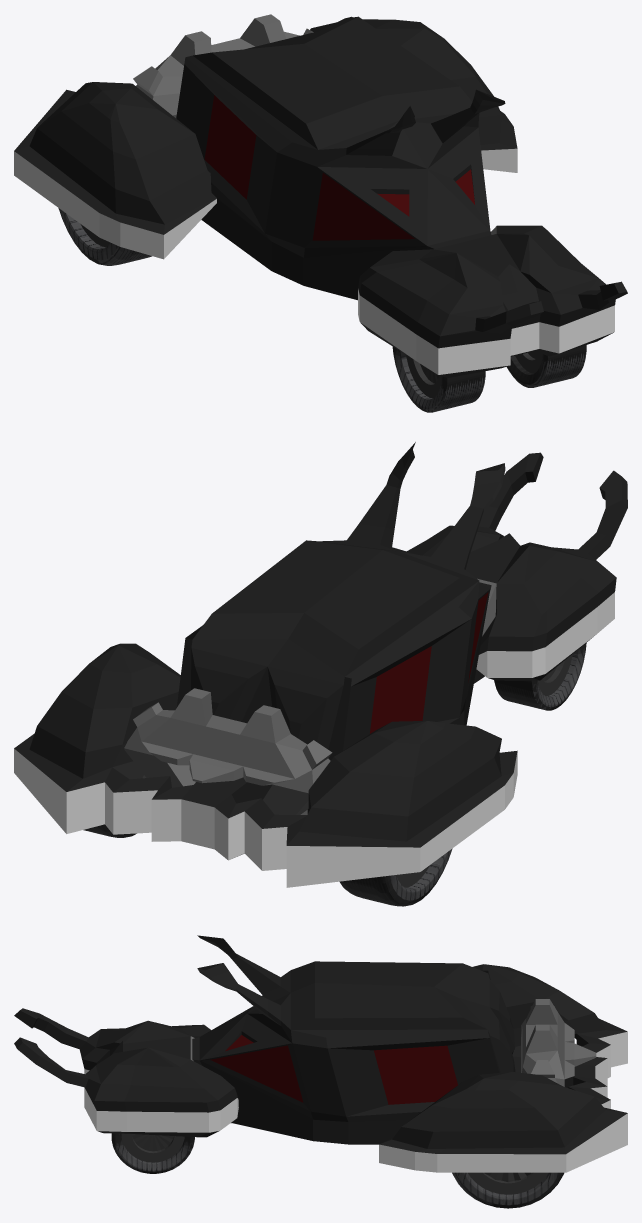
Rendered from bugmobile.glb.
The picture shows the model from 3 angles, top to bottom: view 1: azimuth 30°, elevation 25°; view 2: azimuth 150°, elevation 25°; view 3: azimuth 270°, elevation 25°; orthographic projection. The views are drawn at different scales.
Visible parts, largest first — view 1: chassis, front_right_wheel, front_left_wheel, rear_right_wheel; view 2: chassis, front_right_wheel, rear_right_wheel, rear_left_wheel; view 3: chassis, rear_left_wheel, front_left_wheel.
Boxes of the visible parts, box(x1,y1,x2,y2) form: chassis: box(14, 14, 627, 377); front_right_wheel: box(392, 346, 485, 412); front_left_wheel: box(507, 345, 586, 387); rear_right_wheel: box(58, 208, 151, 265); chassis: box(14, 442, 627, 887); front_right_wheel: box(494, 643, 586, 710); rear_right_wheel: box(339, 848, 452, 906); rear_left_wheel: box(83, 761, 146, 837); chassis: box(14, 935, 627, 1172); rear_left_wheel: box(452, 1172, 564, 1208); front_left_wheel: box(111, 1133, 194, 1173).
Bounding box in the file's own units: 2.97 × 1.82 × 5.12.
6 materials, 1 textured.
